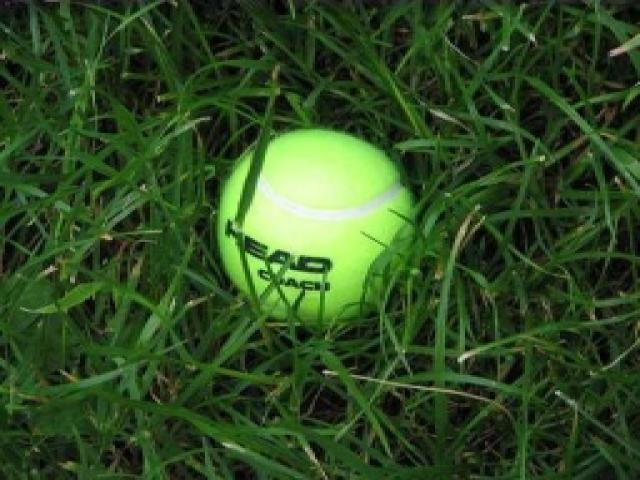tennis-ball: (215, 126, 415, 324)
